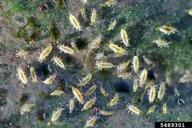Thrips: (58, 43, 77, 62), (69, 12, 84, 35)
